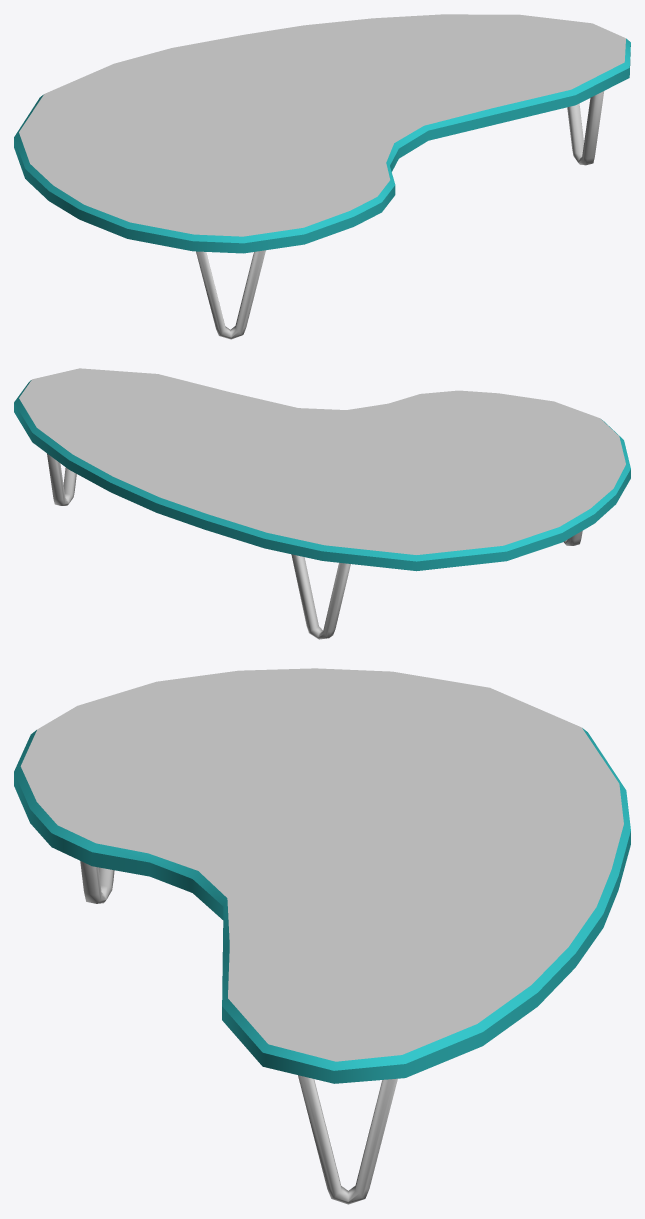
The model's file is Kidney_Table_10.FBX.
3 renders of one model, top to bottom at view 1: azimuth 30°, elevation 25°; view 2: azimuth 150°, elevation 25°; view 3: azimuth 270°, elevation 25°, orthographic. The views are drawn at different scales.
Visible parts, largest first — view 1: Kidney_Bean_Table; view 2: Kidney_Bean_Table; view 3: Kidney_Bean_Table.
Part boxes in pixels (bbox=[...]): Kidney_Bean_Table: bbox=[14, 14, 630, 339]; Kidney_Bean_Table: bbox=[14, 368, 630, 639]; Kidney_Bean_Table: bbox=[14, 668, 630, 1204].
Size of the model in its own units: 396 by 76.96 by 259.
